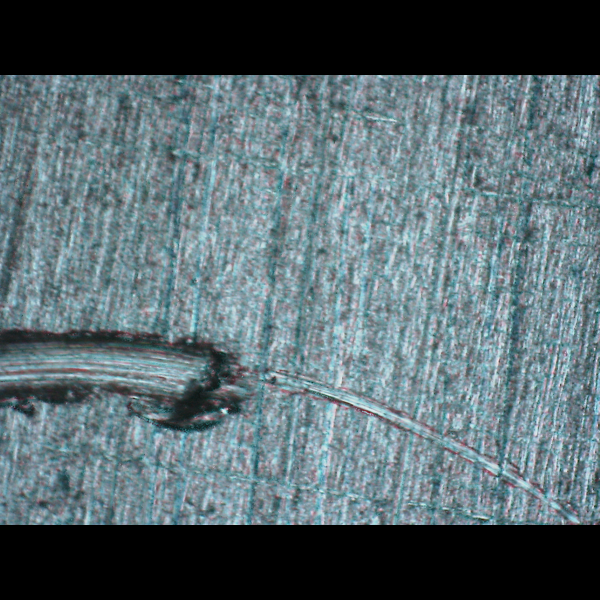d: (0, 328, 595, 524)
